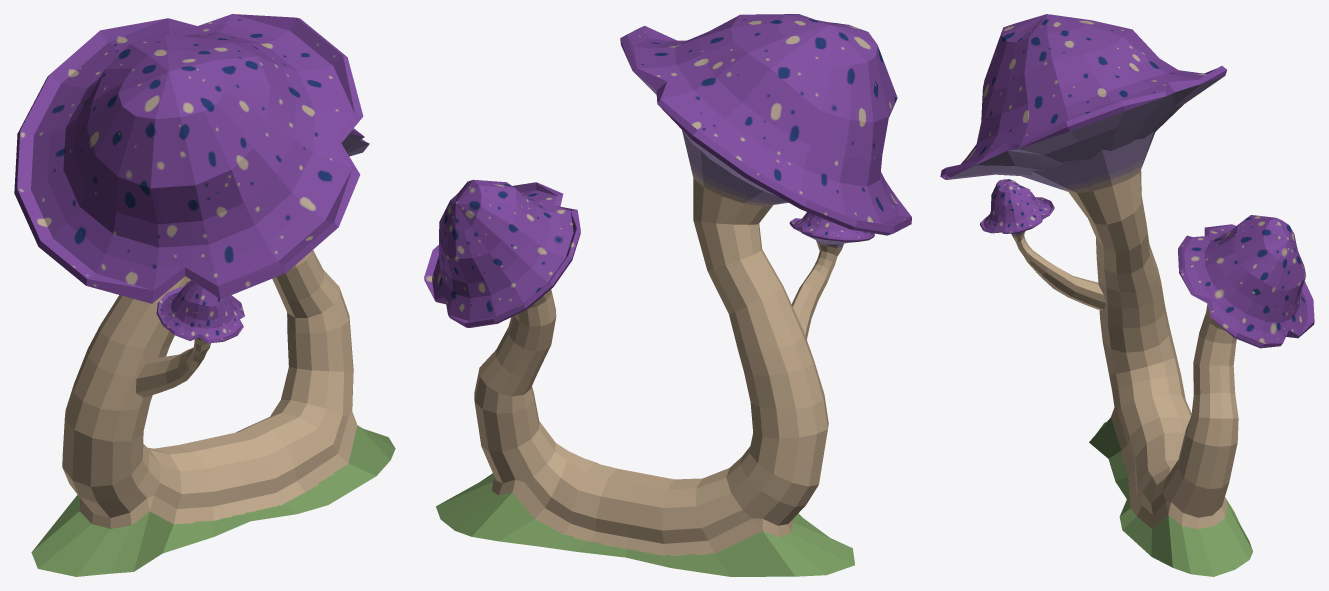
The model's file is mushroom-tree.fbx.
3 renders of one model, left to right at view 1: azimuth 30°, elevation 25°; view 2: azimuth 150°, elevation 25°; view 3: azimuth 270°, elevation 25°, orthographic. The views are drawn at different scales.
Visible parts, largest first — view 1: mushroom_tree_1; view 2: mushroom_tree_1; view 3: mushroom_tree_1.
Boxes of the visible parts, bbox=[...] form: mushroom_tree_1: bbox=[14, 14, 395, 576]; mushroom_tree_1: bbox=[424, 14, 911, 576]; mushroom_tree_1: bbox=[940, 14, 1314, 576].
Bounding box in the file's own units: 530 × 626 × 490.
1 material, 1 textured.
